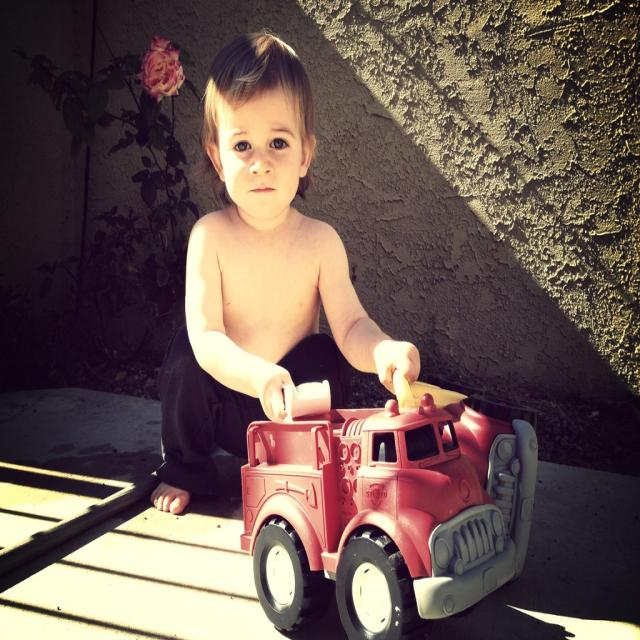car: (238, 394, 537, 638)
